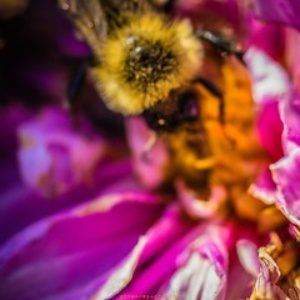bee: (54, 1, 250, 164)
